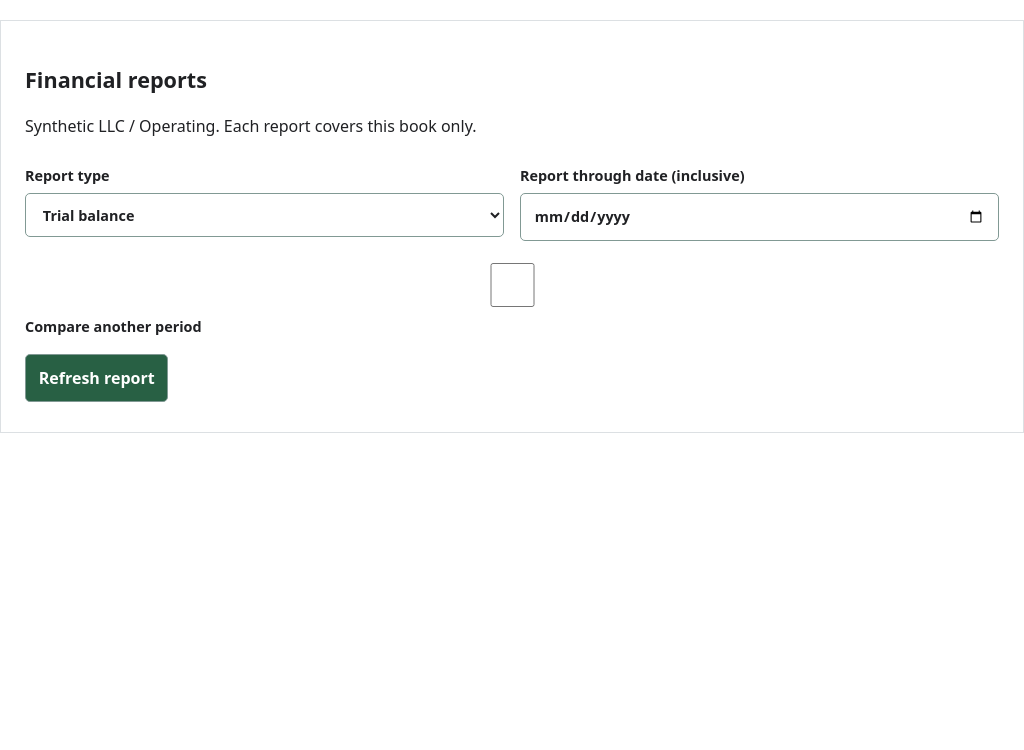
Test: financial report review › binds pagination revision, clears stale totals, and refreshes a fresh snapshot
Type "2026-01-31" into the date field labelled "Report through date (inclusive)" at (760, 217), box [520,193,999,240]
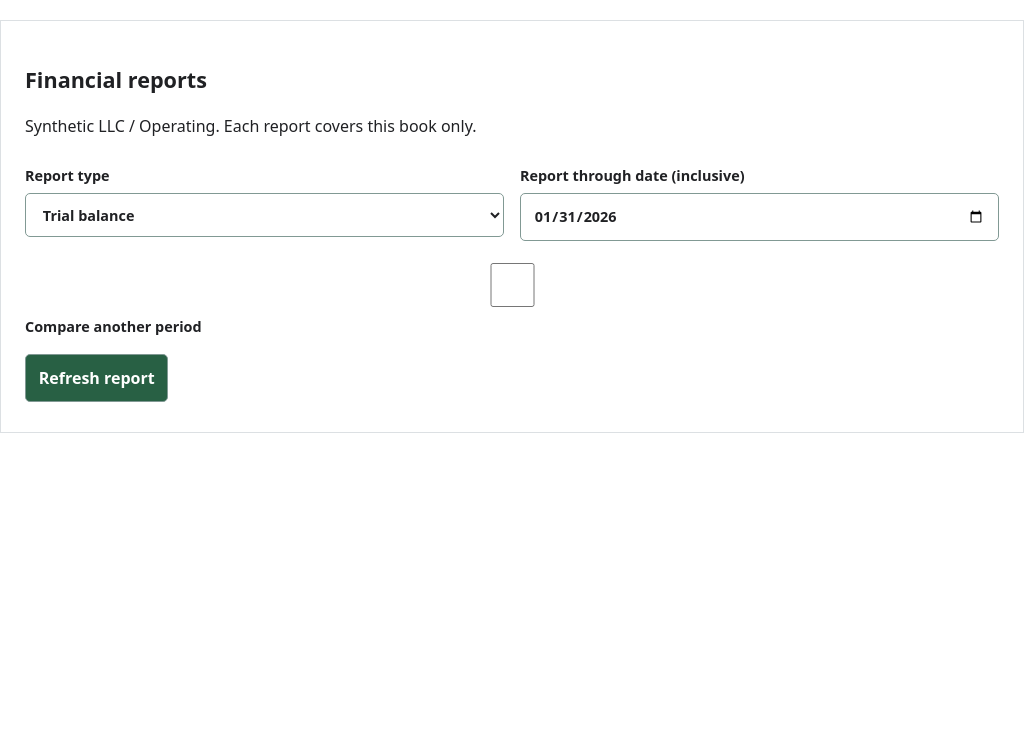
Click the button "Refresh report" at (97, 378), box [25,354,168,402]
(page scrolled)
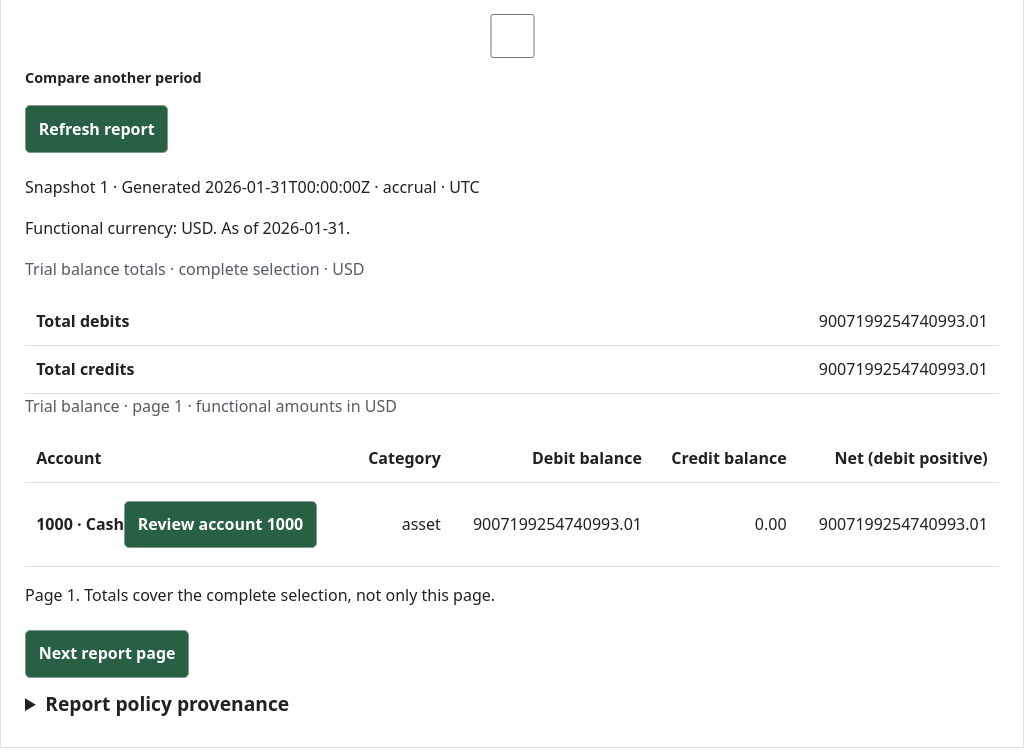
Check: the text "Snapshot 1 · Generated 2026-01-31T00:00:00Z · accrual · UTC" is shown, box [25,176,480,198]
Check: the text "9007199254740993.01" in the row of "Total debits" is shown, box [819,310,988,332]
Click the button "Next report page" at (107, 654), box [25,630,189,678]
(page scrolled)
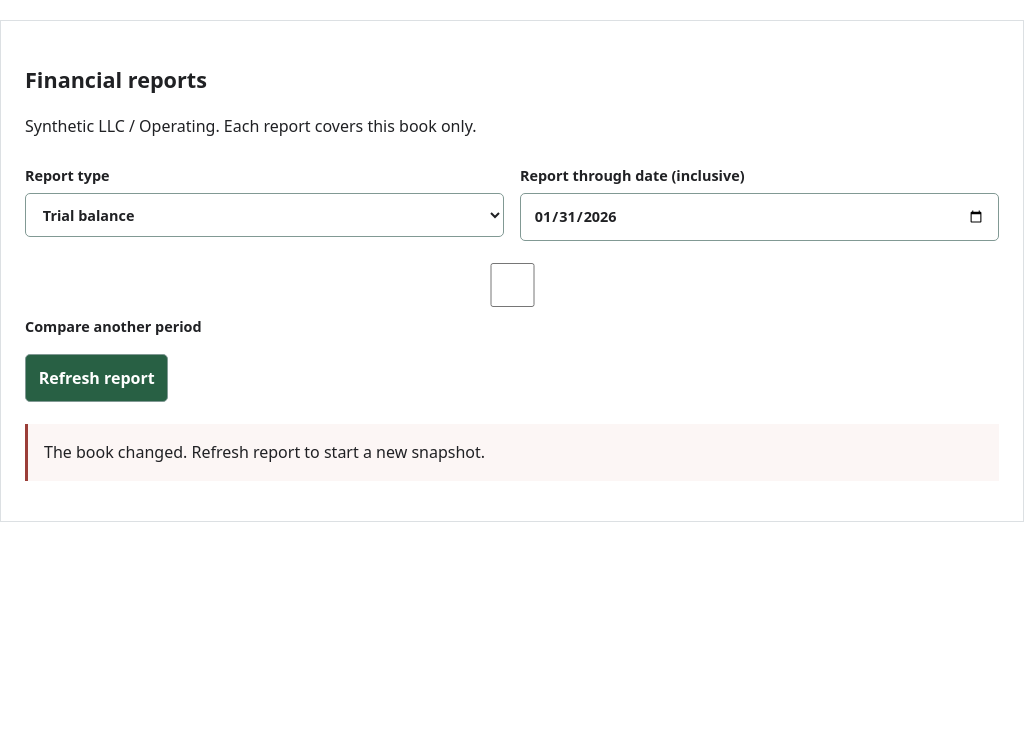
Check: the message "The book changed. Refresh report to start a new snapshot." is shown, box [25,424,999,481]
Check: the text "Snapshot 1" is gone
Check: the text "9007199254740993.01" is not shown
Click the button "Refresh report" at (97, 378), box [25,354,168,402]
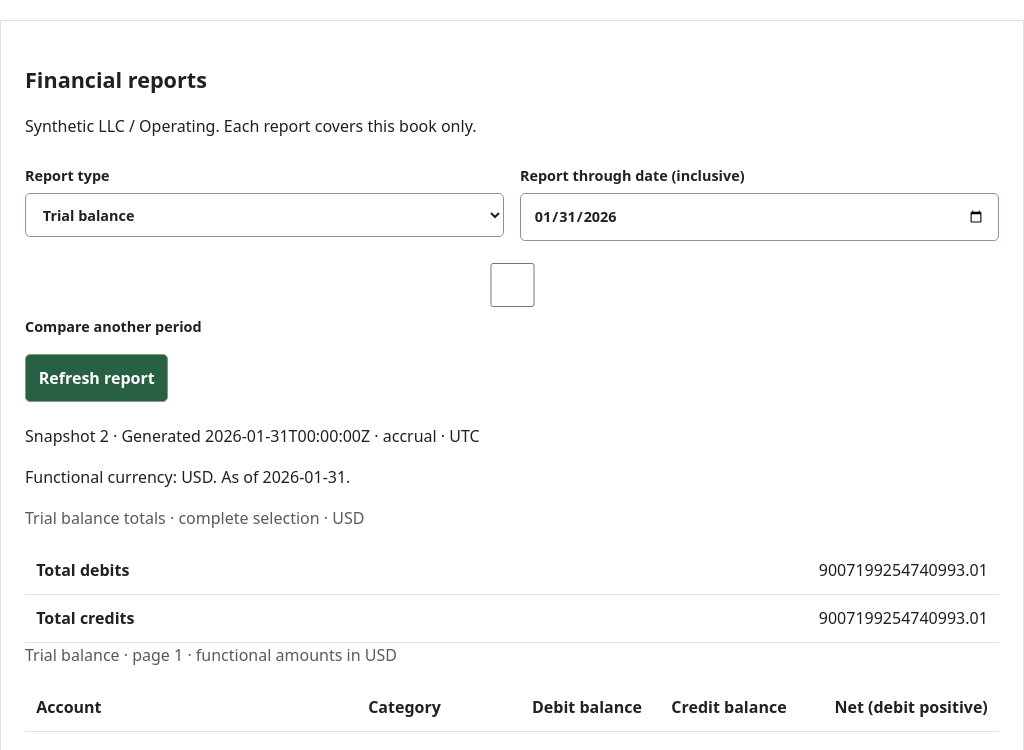
Check: the text "Snapshot 2 · Generated 2026-01-31T00:00:00Z · accrual · UTC" is shown, box [25,425,480,447]
